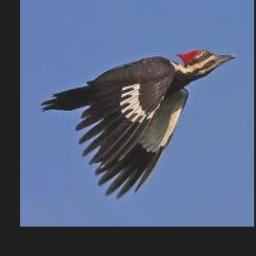Woodpecker: (40, 48, 236, 198)
